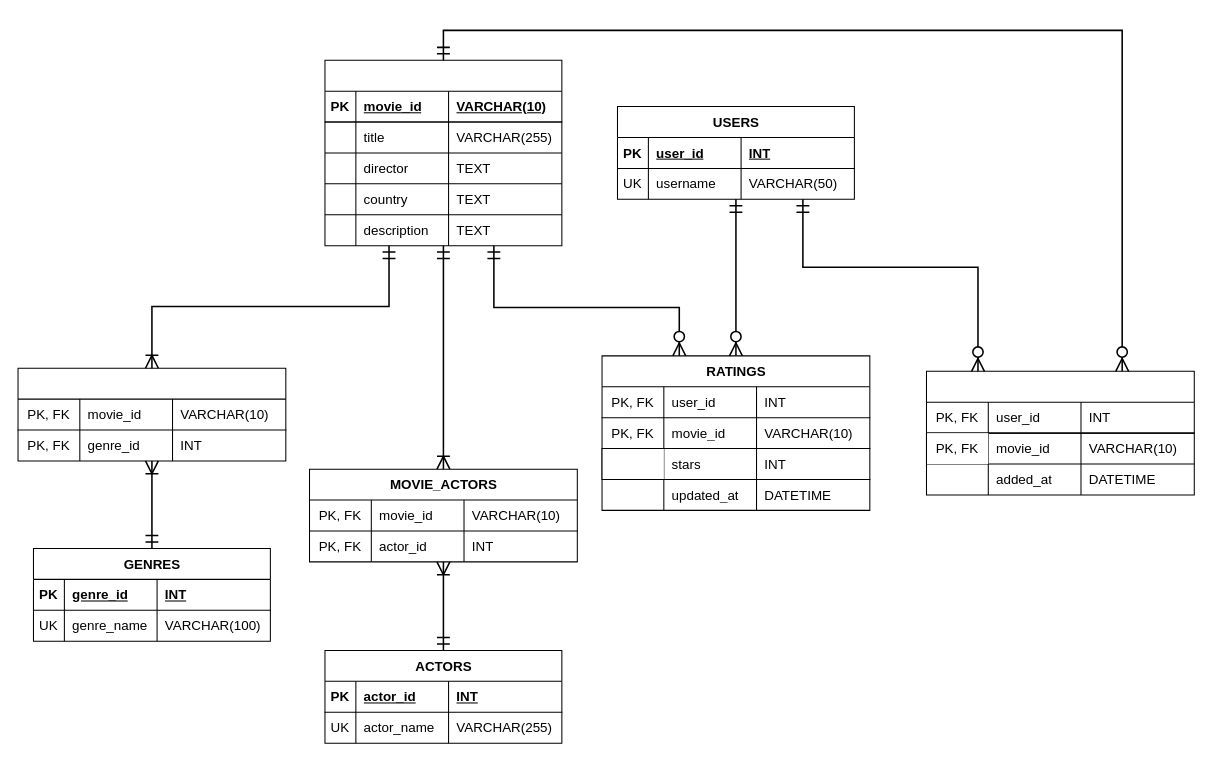
This 1212x762 diagram has some shape labels left out. The box of each missing label's shape, as (x1, y1, x2, y2) in pixels:
MOVIE_GENRES: (17, 367, 286, 461)
MOVIES: (324, 59, 562, 246)
WATCHLIST: (925, 370, 1194, 495)
